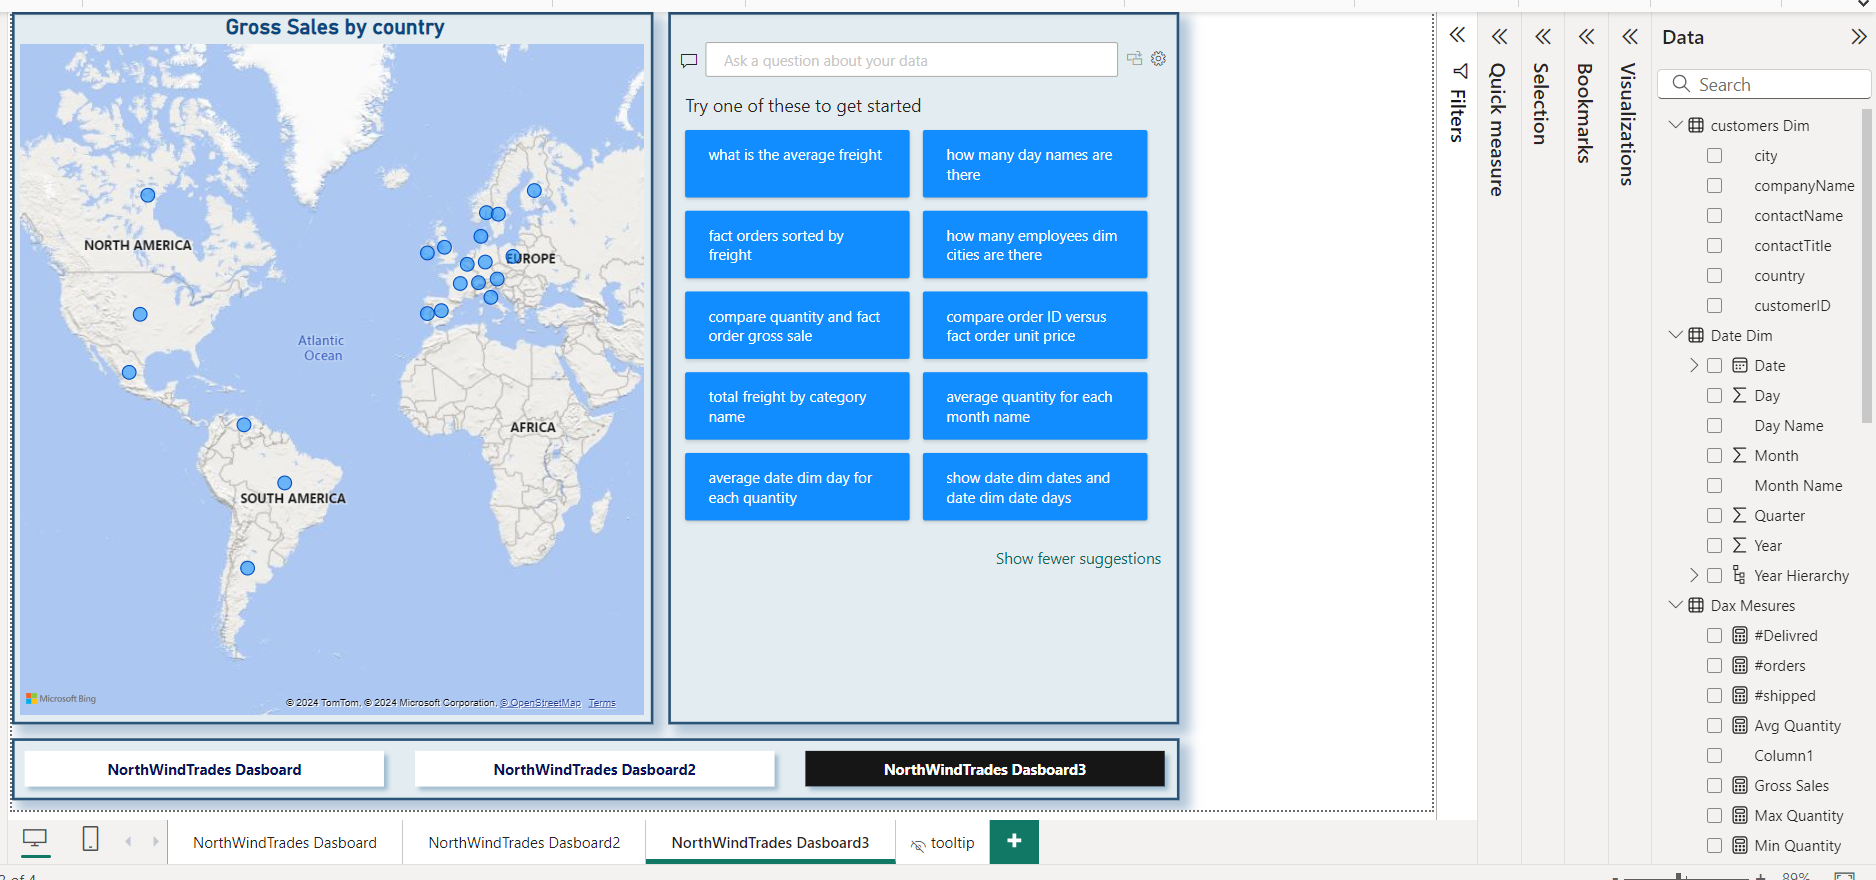

The page's visual inventory and layout, read from the dashboard file:
{"tool":"powerbi","page":{"name":"NorthWindTrades Dasboard3","canvas":[1280,720],"ordinal":2},"visuals":[{"type":"map","fields":{"Category":["customers Dim.country"],"Y":["Dax Mesures.Gross Sales"]},"box":[0,0,578.2,642.5],"z":0},{"type":"qnaVisual","box":[591.7,0,461,642.5],"z":1000},{"type":"pageNavigator","box":[0,654.9,1052.7,56.4],"z":2000}]}

Visuals, with their boxes on the page's 1280x720 design canvas (x1, y1, x2, y2). These are canvas units, not pixel positions in the 1876x880 screenshot, which may show the page scaled, cropped or inside an application window:
map - customers Dim.country x Dax Mesures.Gross Sales: BBox(0, 0, 578, 642)
qnaVisual: BBox(592, 0, 1053, 642)
pageNavigator: BBox(0, 655, 1053, 711)
